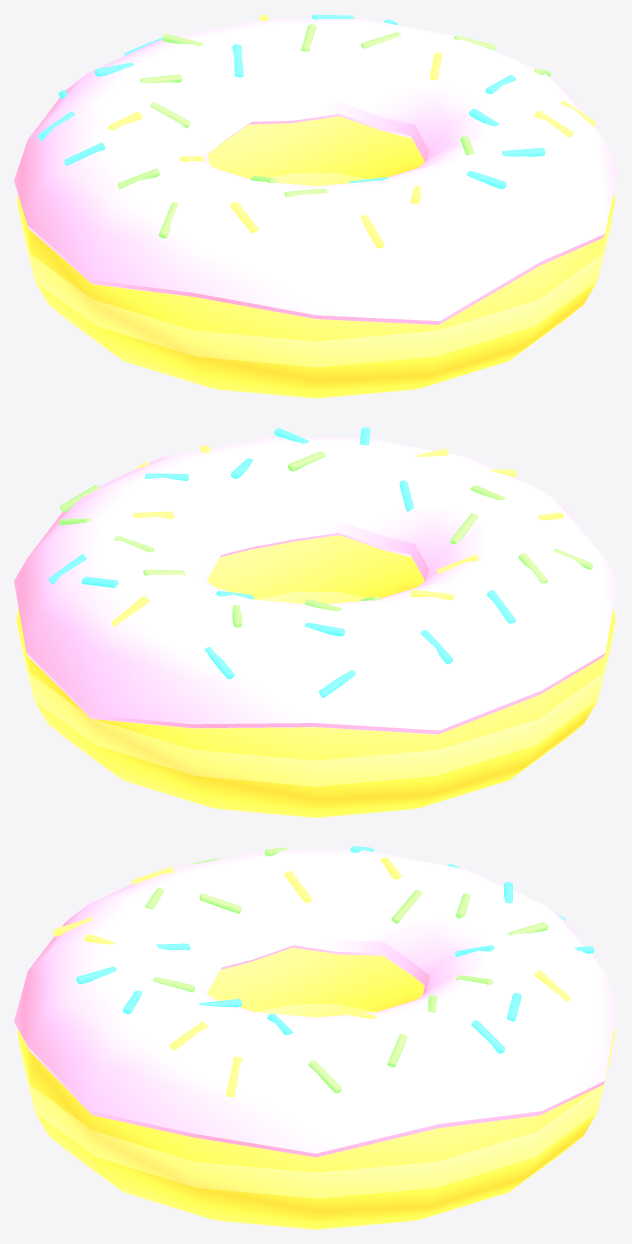
File: Donut_Done.fbx
3 views of the same model, one above another, from view 1: azimuth 30°, elevation 25°; view 2: azimuth 150°, elevation 25°; view 3: azimuth 270°, elevation 25° (orthographic).
Visible parts, largest first — view 1: Frosting_Geo, Donut_Geo, Blue_Sprinkle_Geo, Green_Sprinkle_Geo, Yellow_Sprinkle_Geo; view 2: Frosting_Geo, Donut_Geo, Blue_Sprinkle_Geo, Green_Sprinkle_Geo, Yellow_Sprinkle_Geo; view 3: Frosting_Geo, Donut_Geo, Green_Sprinkle_Geo, Blue_Sprinkle_Geo, Yellow_Sprinkle_Geo.
Boxes of the visible parts, bbox=[...] form: Frosting_Geo: bbox=[14, 19, 617, 324]; Donut_Geo: bbox=[17, 116, 614, 398]; Blue_Sprinkle_Geo: bbox=[37, 14, 545, 189]; Green_Sprinkle_Geo: bbox=[118, 24, 550, 238]; Yellow_Sprinkle_Geo: bbox=[108, 14, 595, 248]; Frosting_Geo: bbox=[14, 437, 617, 734]; Donut_Geo: bbox=[16, 535, 615, 817]; Blue_Sprinkle_Geo: bbox=[48, 427, 515, 697]; Green_Sprinkle_Geo: bbox=[59, 451, 592, 627]; Yellow_Sprinkle_Geo: bbox=[112, 445, 563, 626]; Frosting_Geo: bbox=[14, 850, 617, 1157]; Donut_Geo: bbox=[17, 947, 614, 1229]; Green_Sprinkle_Geo: bbox=[145, 847, 548, 1093]; Blue_Sprinkle_Geo: bbox=[76, 846, 594, 1053]; Yellow_Sprinkle_Geo: bbox=[53, 857, 570, 1096].
Bounding box in the file's own units: 3 × 1.09 × 3.01.
